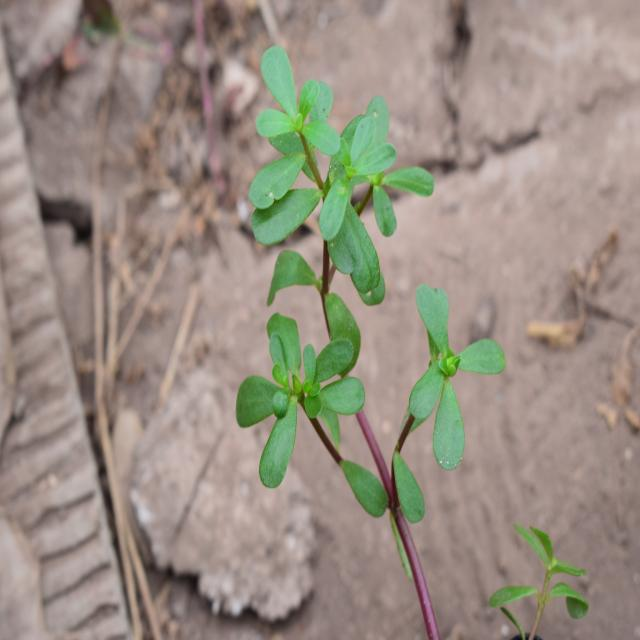purslane: (207, 42, 528, 579)
